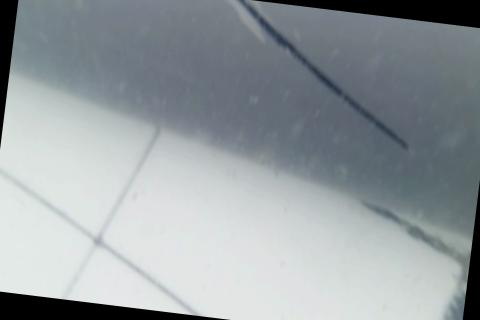keretakan: (202, 0, 424, 149)
